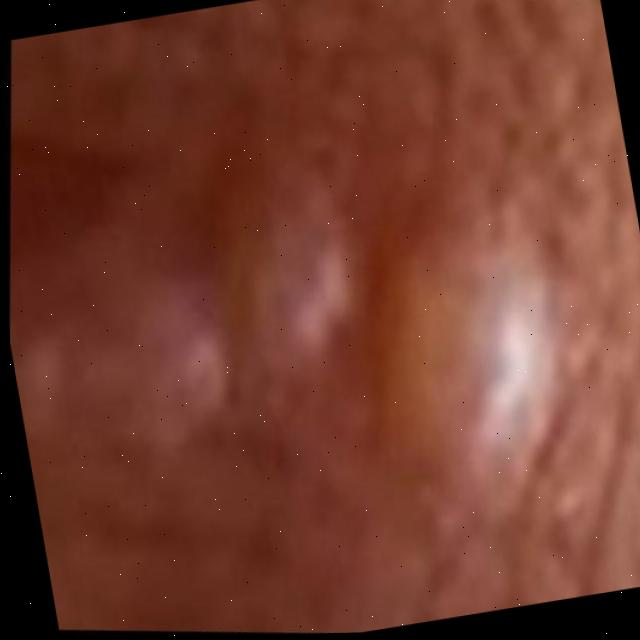Eczema: (53, 161, 583, 499)
